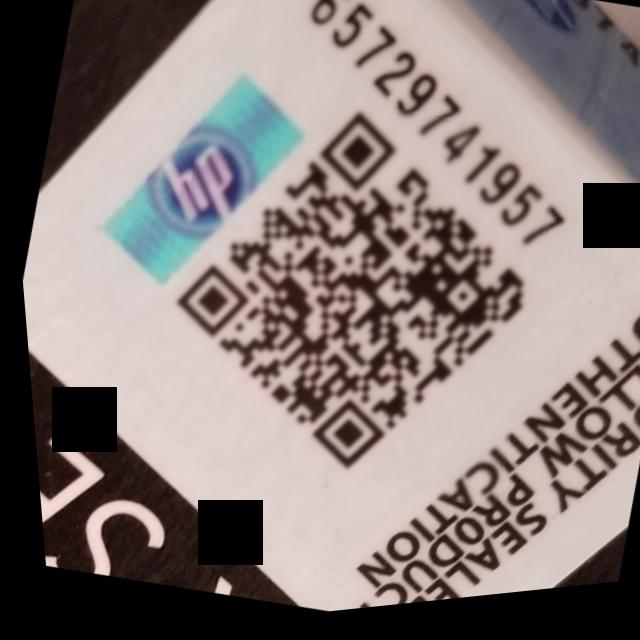QR_CODE: (110, 55, 585, 547)
